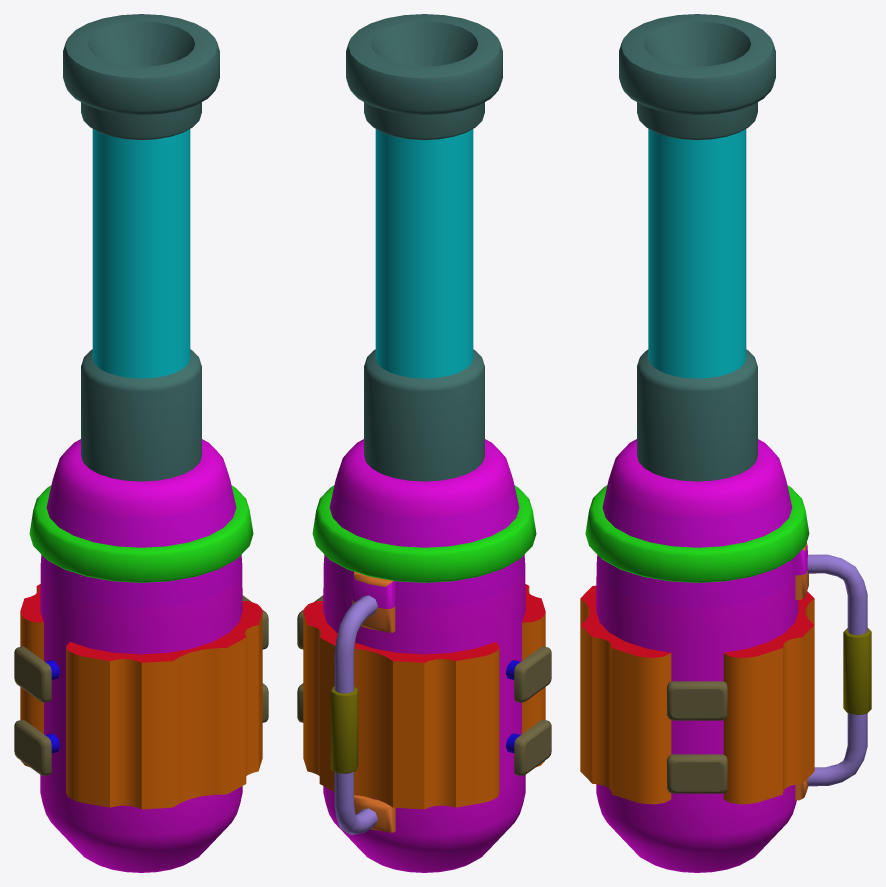
Rendered from sm_gravitygun.fbx.
The picture shows the model from 3 angles, left to right: view 1: azimuth 30°, elevation 25°; view 2: azimuth 150°, elevation 25°; view 3: azimuth 270°, elevation 25°; orthographic projection.
Parts seen in each view (by area): view 1: sm_gravgun; view 2: sm_gravgun; view 3: sm_gravgun.
Part boxes in pixels (<box>): sm_gravgun: <box>14,14,268,872</box>; sm_gravgun: <box>297,14,551,872</box>; sm_gravgun: <box>580,14,871,872</box>.
Bounding box in the file's own units: 130 × 440 × 144.
